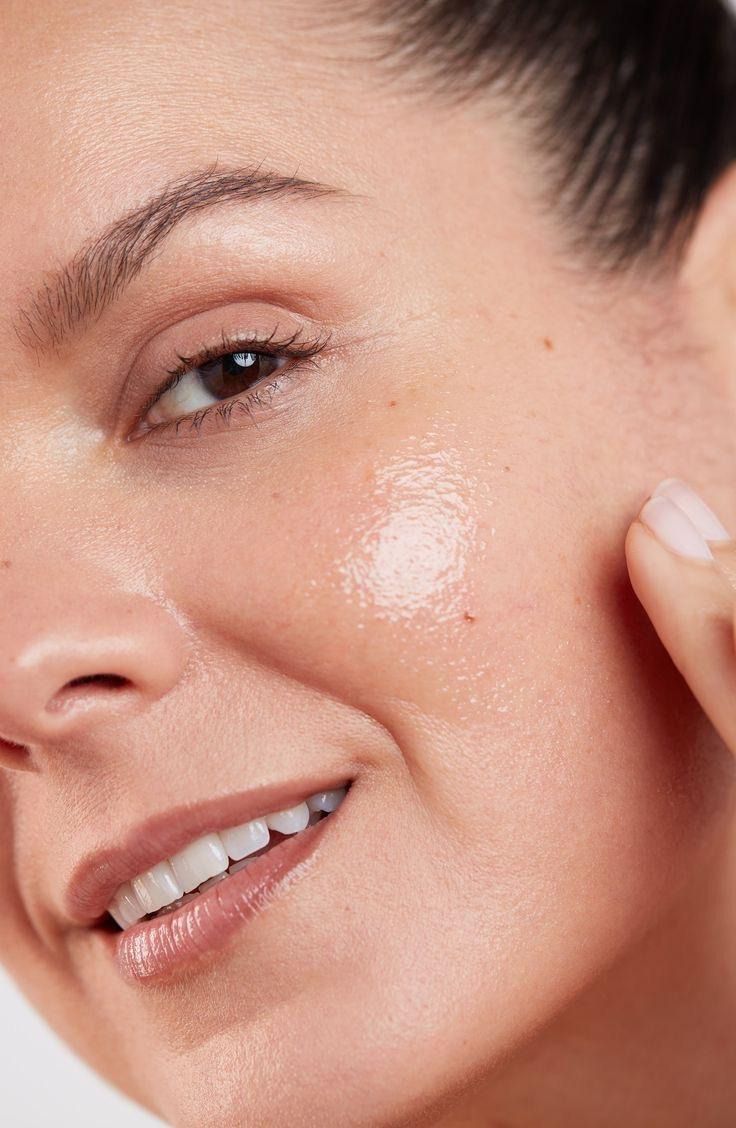Oily-Skin: (243, 447, 587, 697), (153, 963, 440, 1128), (0, 447, 143, 623)
